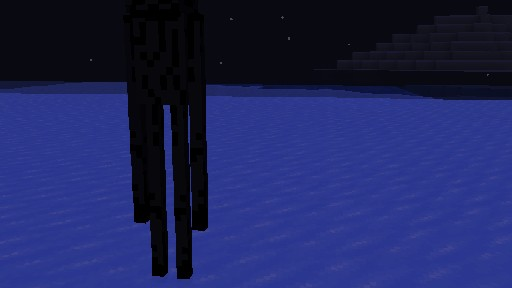enderman: (122, 0, 208, 285)
